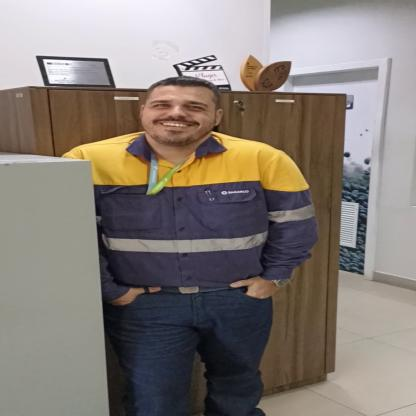Operacional: (69, 132, 322, 298)
